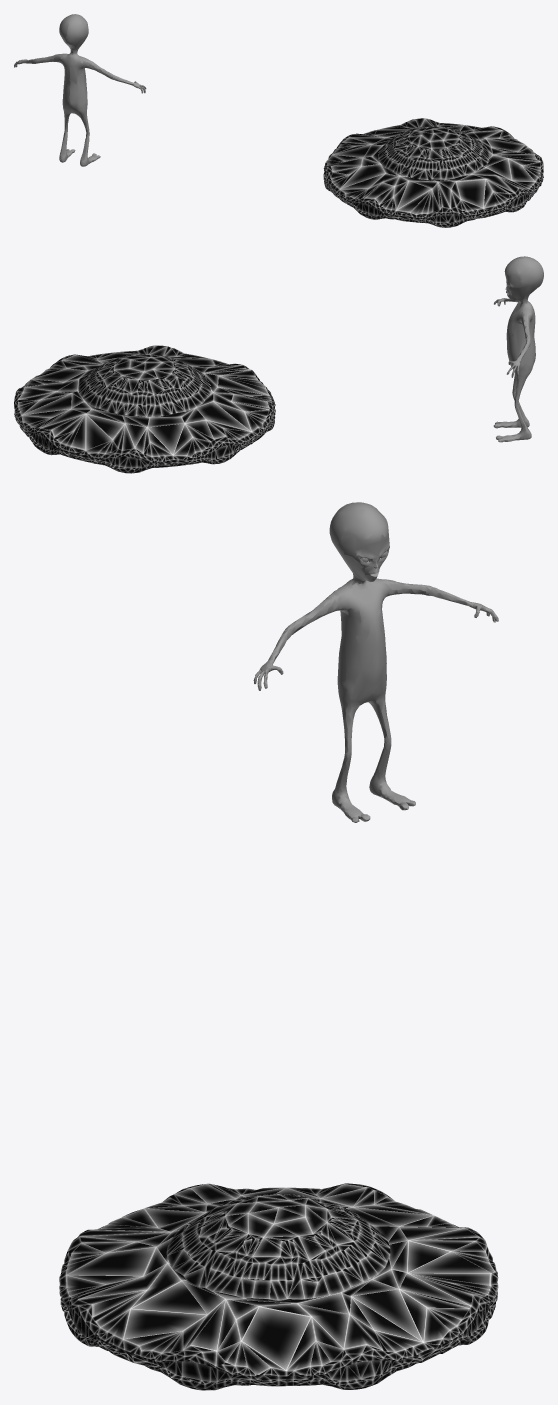
The model's file is frame_029.obj.
The picture shows the model from 3 angles, top to bottom: view 1: azimuth 30°, elevation 25°; view 2: azimuth 150°, elevation 25°; view 3: azimuth 270°, elevation 25°; orthographic projection. The views are drawn at different scales.
Visible parts, largest first — view 1: 13884_UFO_Saucer_v1_l2, 10469_GrayAlien_v01; view 2: 13884_UFO_Saucer_v1_l2, 10469_GrayAlien_v01; view 3: 13884_UFO_Saucer_v1_l2, 10469_GrayAlien_v01.
Part boxes in pixels (x1,y1,x2,y2): 13884_UFO_Saucer_v1_l2: (323,118,543,227); 10469_GrayAlien_v01: (14,14,146,166); 13884_UFO_Saucer_v1_l2: (14,345,275,473); 10469_GrayAlien_v01: (493,256,543,442); 13884_UFO_Saucer_v1_l2: (59,1183,498,1390); 10469_GrayAlien_v01: (253,502,498,822).
Bounding box in the file's own units: 30.86 × 16.72 × 12.71.
